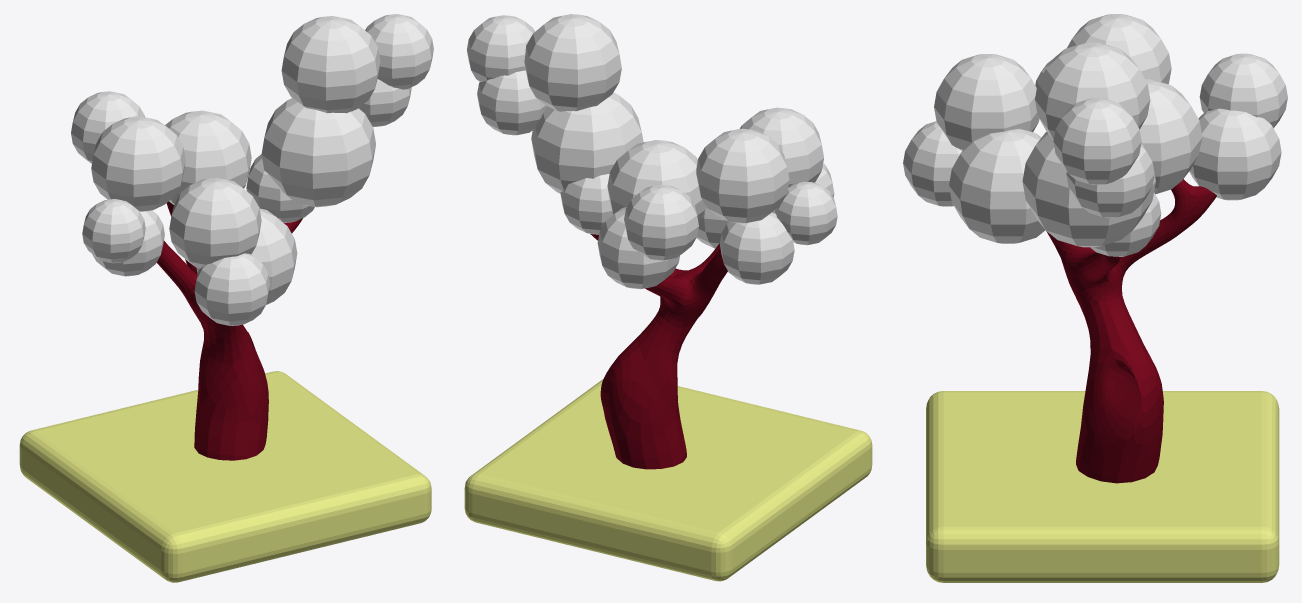
The picture shows the model from 3 angles, left to right: view 1: azimuth 30°, elevation 25°; view 2: azimuth 150°, elevation 25°; view 3: azimuth 270°, elevation 25°; orthographic projection. The views are drawn at different scales.
Parts seen in each view (by area): view 1: Plane, Vert, Sphere.008, Sphere.006, Sphere, Sphere.003, Sphere.005, Sphere.002, Sphere.007, Sphere.004, Sphere.010, Sphere.012 (+3 smaller); view 2: Plane, Vert, Sphere.006, Sphere.008, Sphere, Sphere.010, Sphere.005, Sphere.011, Sphere.003, Sphere.007, Sphere.009, Sphere.001 (+3 smaller); view 3: Plane, Vert, Sphere.012, Sphere.003, Sphere.006, Sphere.001, Sphere.007, Sphere.008, Sphere.005, Sphere.010, Sphere, Sphere.002 (+2 smaller).
Boxes of the visible parts, bbox=[...] form: Plane: bbox=[19, 371, 431, 582]; Vert: bbox=[156, 201, 302, 460]; Sphere.008: bbox=[261, 98, 375, 207]; Sphere.006: bbox=[281, 16, 380, 113]; Sphere: bbox=[91, 116, 185, 211]; Sphere.003: bbox=[169, 178, 261, 268]; Sphere.005: bbox=[165, 110, 251, 204]; Sphere.002: bbox=[194, 253, 270, 325]; Sphere.007: bbox=[365, 14, 433, 89]; Sphere.004: bbox=[82, 199, 145, 263]; Sphere.010: bbox=[71, 91, 144, 163]; Sphere.012: bbox=[196, 208, 297, 304]; Plane: bbox=[464, 379, 872, 581]; Vert: bbox=[590, 234, 727, 469]; Sphere.006: bbox=[524, 14, 621, 111]; Sphere.008: bbox=[531, 93, 643, 193]; Sphere: bbox=[696, 128, 789, 223]; Sphere.010: bbox=[624, 184, 698, 260]; Sphere.005: bbox=[607, 140, 705, 221]; Sphere.011: bbox=[719, 212, 794, 284]; Sphere.003: bbox=[740, 107, 823, 187]; Sphere.007: bbox=[467, 15, 534, 81]; Sphere.009: bbox=[477, 70, 546, 135]; Sphere.001: bbox=[597, 207, 679, 289]; Plane: bbox=[926, 391, 1279, 582]; Vert: bbox=[1046, 179, 1216, 483]; Sphere.012: bbox=[949, 128, 1045, 243]; Sphere.003: bbox=[934, 54, 1039, 150]; Sphere.006: bbox=[1035, 42, 1150, 139]; Sphere.001: bbox=[1189, 108, 1281, 200]; Sphere.007: bbox=[1053, 98, 1141, 184]; Sphere.008: bbox=[1022, 131, 1155, 247]; Sphere.005: bbox=[1139, 79, 1202, 194]; Sphere.010: bbox=[1199, 53, 1287, 128]; Sphere: bbox=[1067, 14, 1171, 84]; Sphere.002: bbox=[903, 121, 961, 206].
Bounding box in the file's own units: 262 × 327 × 218.
